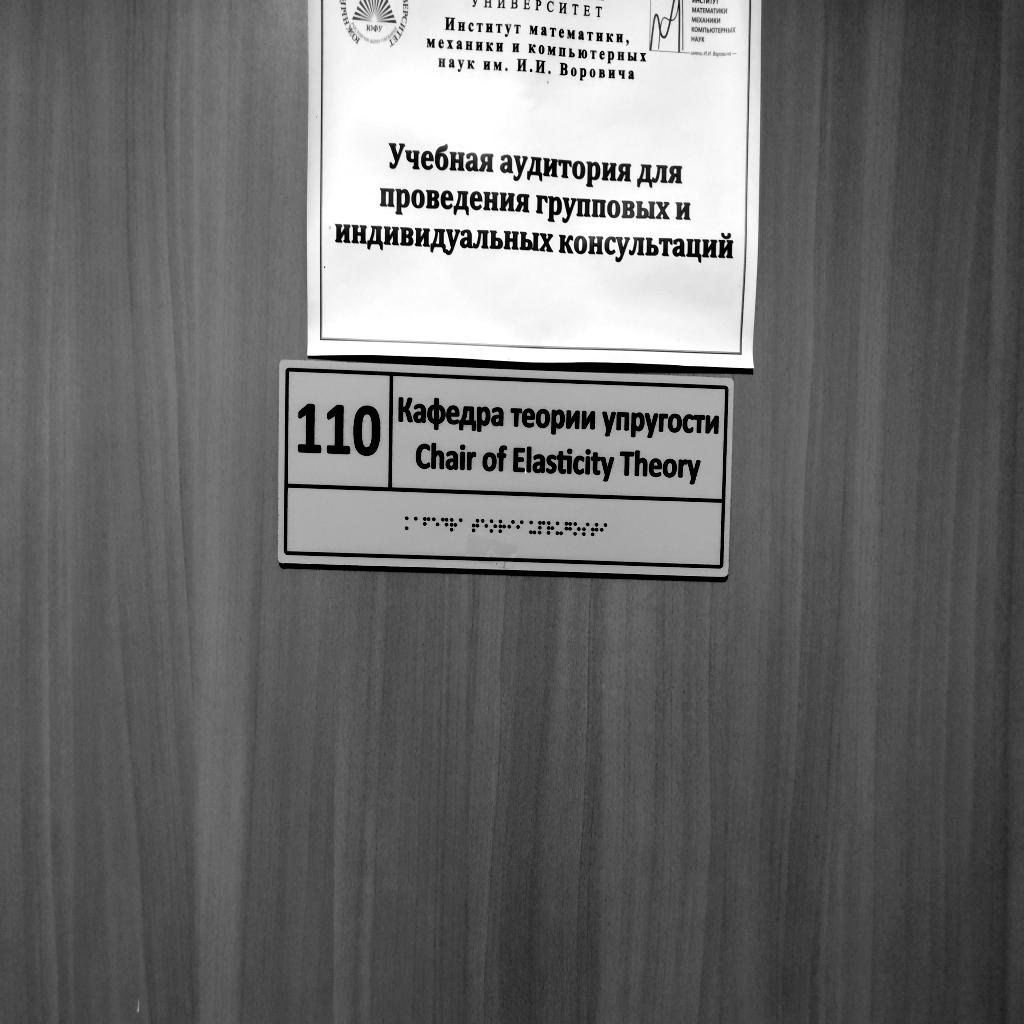_y: (529, 520, 536, 535), (556, 521, 563, 535)
a: (414, 517, 421, 531), (459, 518, 466, 532)
d: (441, 517, 448, 532)
e: (432, 517, 439, 531), (481, 519, 488, 533)
f: (423, 516, 430, 531)
g: (564, 521, 572, 537)
i: (507, 520, 515, 534), (516, 520, 524, 534), (600, 523, 607, 537)
k: (405, 516, 412, 530)
o: (490, 519, 497, 533), (574, 522, 581, 536)
p: (538, 520, 546, 535)
r: (498, 519, 506, 533), (547, 521, 555, 535), (450, 517, 457, 532)
s: (582, 522, 590, 536)
t: (472, 519, 479, 533), (591, 523, 598, 537)
